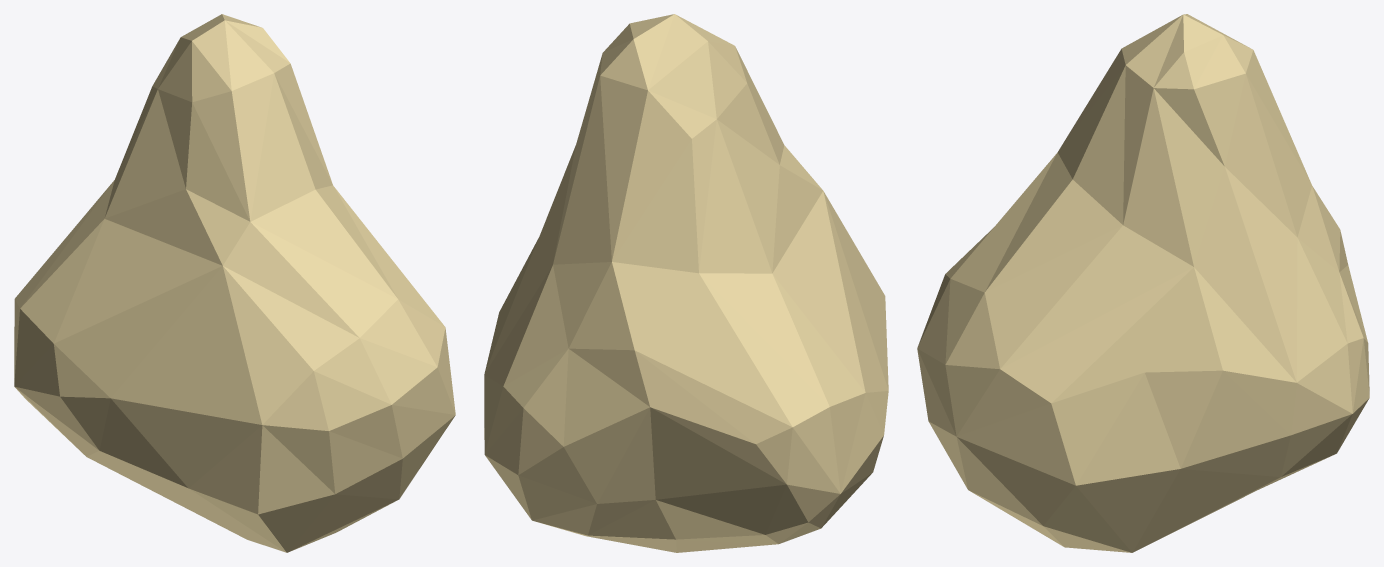
Rendered from Rock (95).fbx.
3 views of the same model, side by side, from view 1: azimuth 30°, elevation 25°; view 2: azimuth 150°, elevation 25°; view 3: azimuth 270°, elevation 25° (orthographic). The views are drawn at different scales.
Parts seen in each view (by area): view 1: Asteroid94; view 2: Asteroid94; view 3: Asteroid94.
Boxes of the visible parts, bbox=[...] form: Asteroid94: bbox=[14, 14, 455, 552]; Asteroid94: bbox=[484, 14, 888, 552]; Asteroid94: bbox=[917, 14, 1369, 552].
Bounding box in the file's own units: 52.31 × 71.54 × 57.17.
